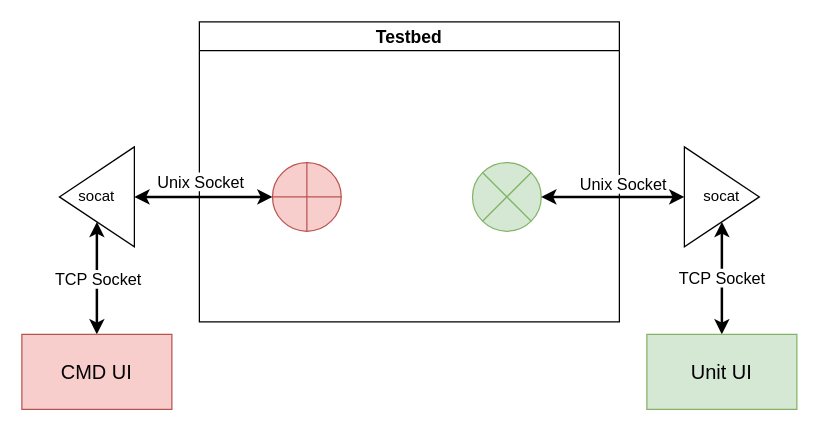
This 819x431 diagram has some shape labels left out. The box of each missing label's shape, as (x1, y1, x2, y2) in pixels:
CMD Daemon: (271, 161, 341, 231)
Unit Daemon: (471, 161, 541, 231)
